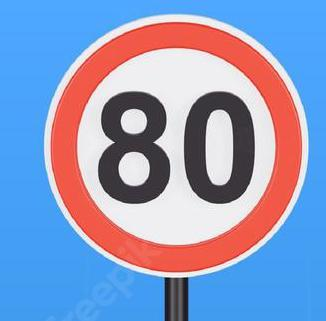Speed Limit -80-: (0, 1, 325, 320)
